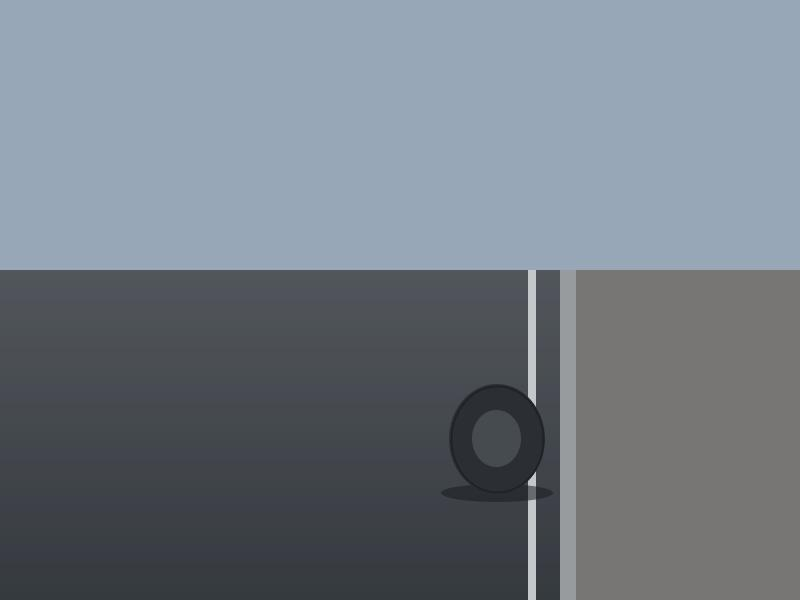ROAD_OBSTACLE: (449, 384, 545, 494)
